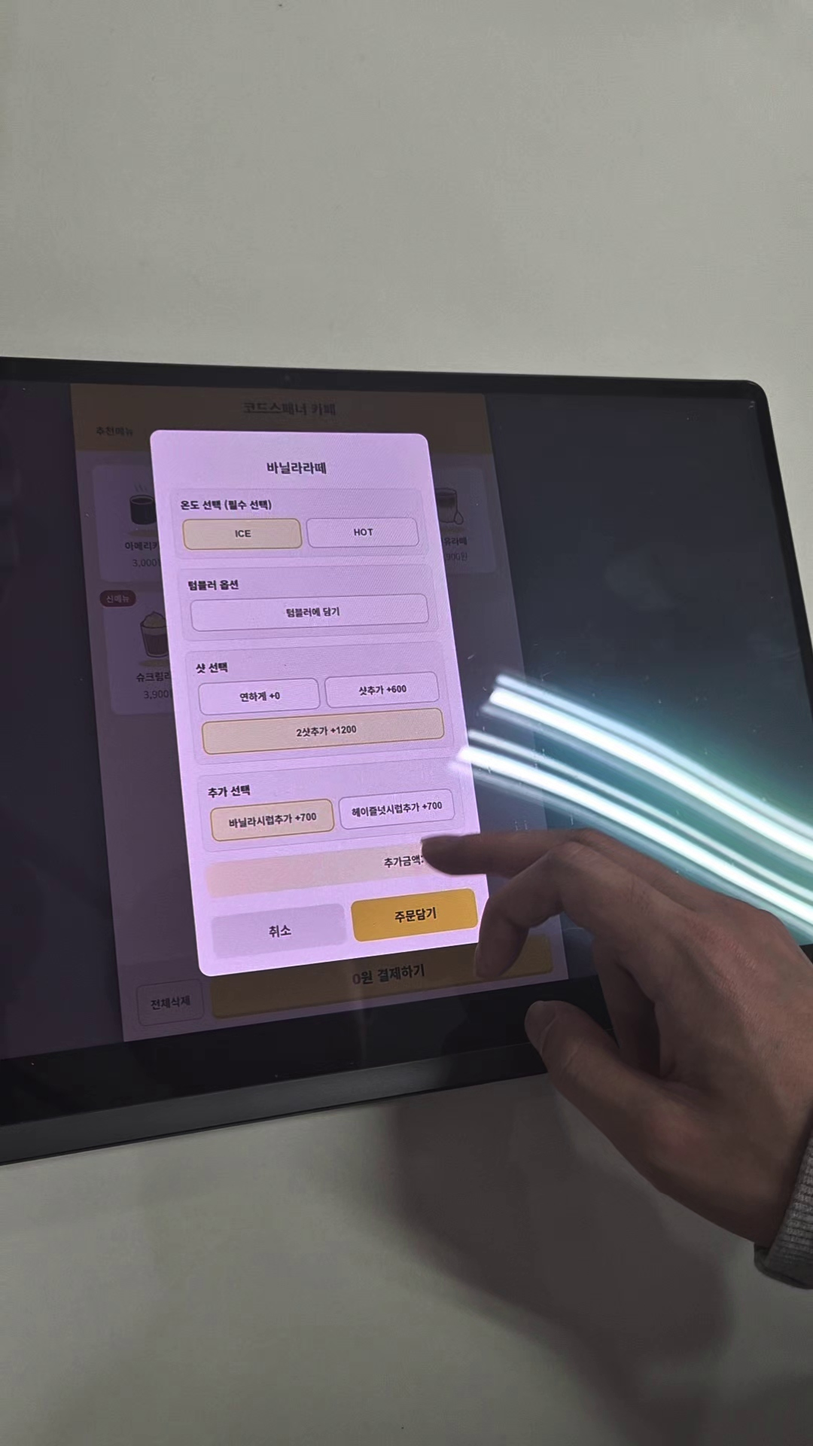action_button: (211, 905, 345, 959), (352, 889, 477, 941)
option_button: (202, 707, 444, 757), (192, 594, 428, 633), (211, 799, 333, 842), (340, 788, 454, 828), (199, 679, 319, 715), (183, 516, 301, 550), (326, 672, 438, 707), (308, 517, 419, 548)
popup_modal: (152, 433, 500, 982)
